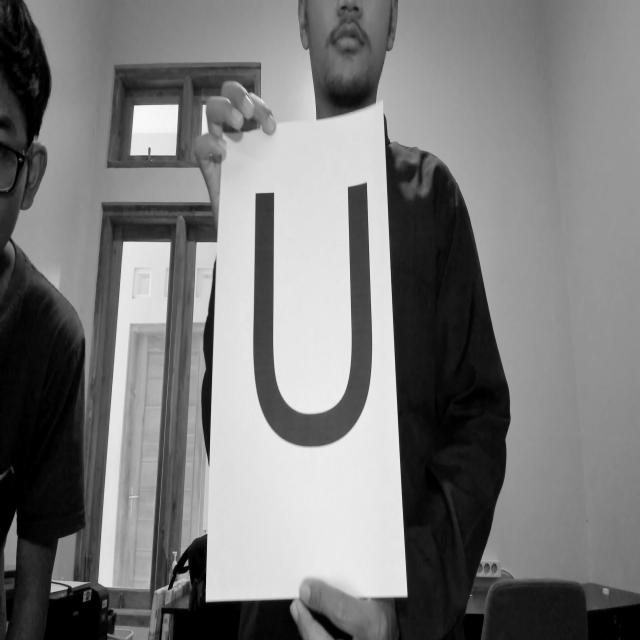u: (244, 176, 388, 452)
